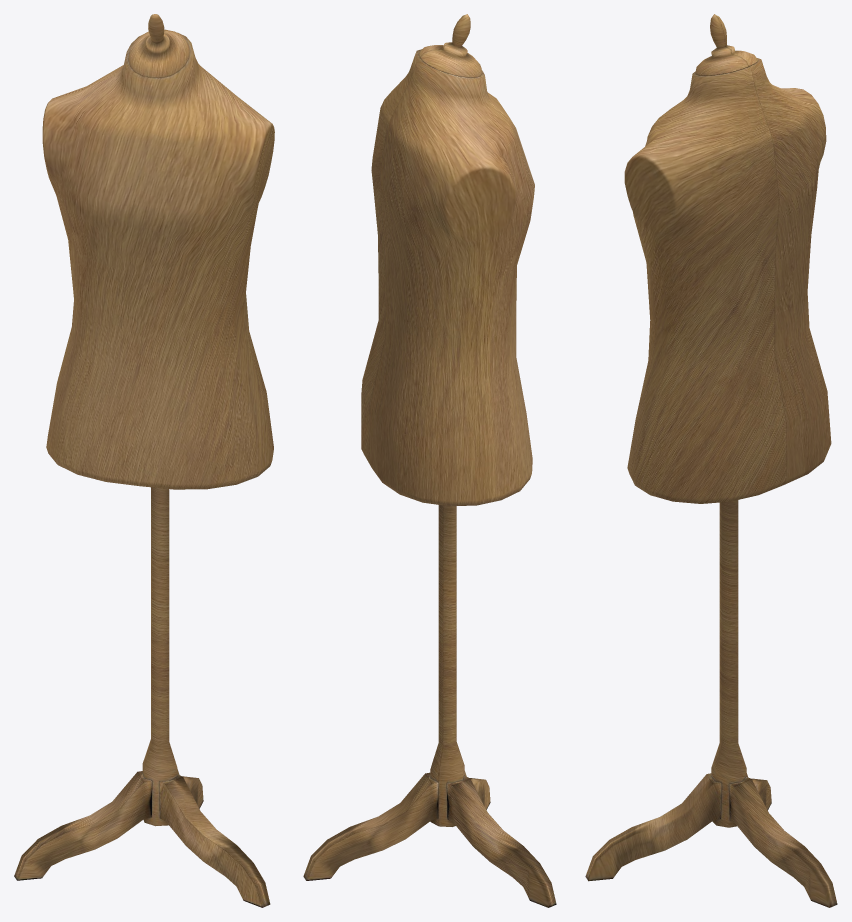
The model's file is Manocanh (5.3, 5.1, 0.3).glb.
3 views of the same model, side by side, from view 1: azimuth 30°, elevation 25°; view 2: azimuth 150°, elevation 25°; view 3: azimuth 270°, elevation 25° (orthographic).
Parts seen in each view (by area): view 1: Dress.008; view 2: Dress.008; view 3: Dress.008.
Part boxes in pixels (bbox=[...]): Dress.008: bbox=[14, 14, 274, 907]; Dress.008: bbox=[303, 14, 556, 907]; Dress.008: bbox=[585, 14, 837, 907].
Bounding box in the file's own units: 0.5003 × 1.85 × 0.5017.
Materials: 1 (1 with a texture image).
